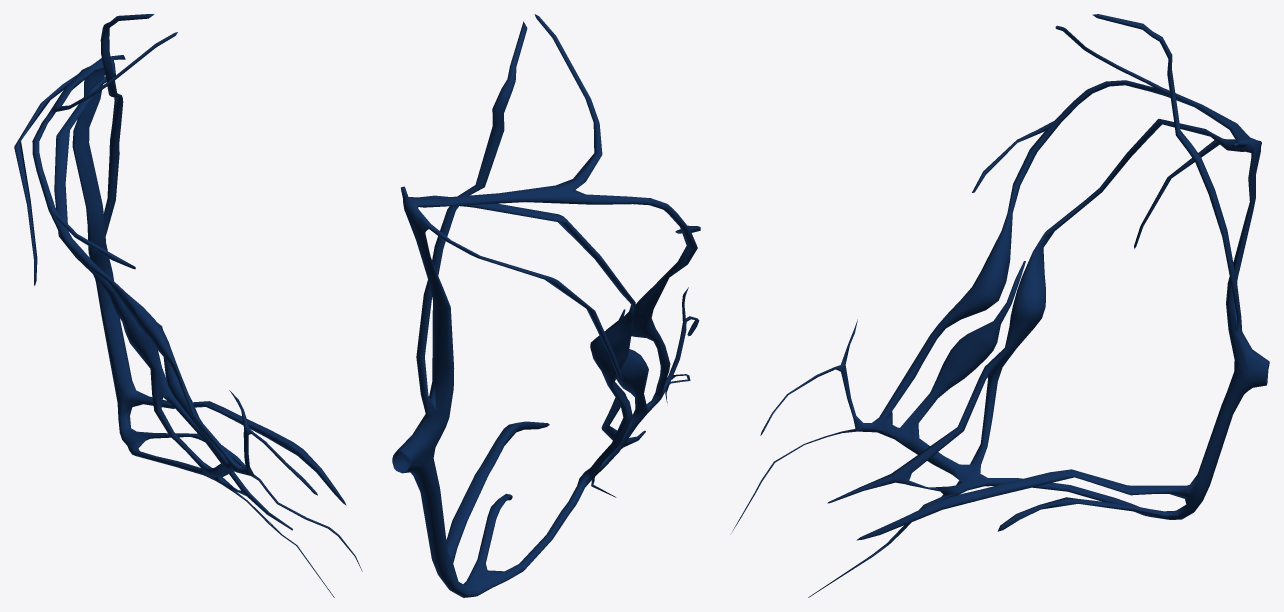
File: R vena linguofacialis.fbx
3 views of the same model, side by side, from view 1: azimuth 30°, elevation 25°; view 2: azimuth 150°, elevation 25°; view 3: azimuth 270°, elevation 25° (orthographic). The views are drawn at different scales.
Visible parts, largest first — view 1: R vena linguofacialis, R vena linguofacialis low; view 2: R vena linguofacialis, R vena linguofacialis low; view 3: R vena linguofacialis, R vena linguofacialis low.
Boxes of the visible parts, left/top/right/bottom form: R vena linguofacialis: left=14, top=14, right=362, bottom=597; R vena linguofacialis low: left=20, top=18, right=344, bottom=533; R vena linguofacialis: left=392, top=14, right=700, bottom=597; R vena linguofacialis low: left=392, top=20, right=700, bottom=594; R vena linguofacialis: left=730, top=14, right=1269, bottom=597; R vena linguofacialis low: left=818, top=15, right=1269, bottom=553.
Bounding box in the file's own units: 8.49 × 19.6 × 17.29.
